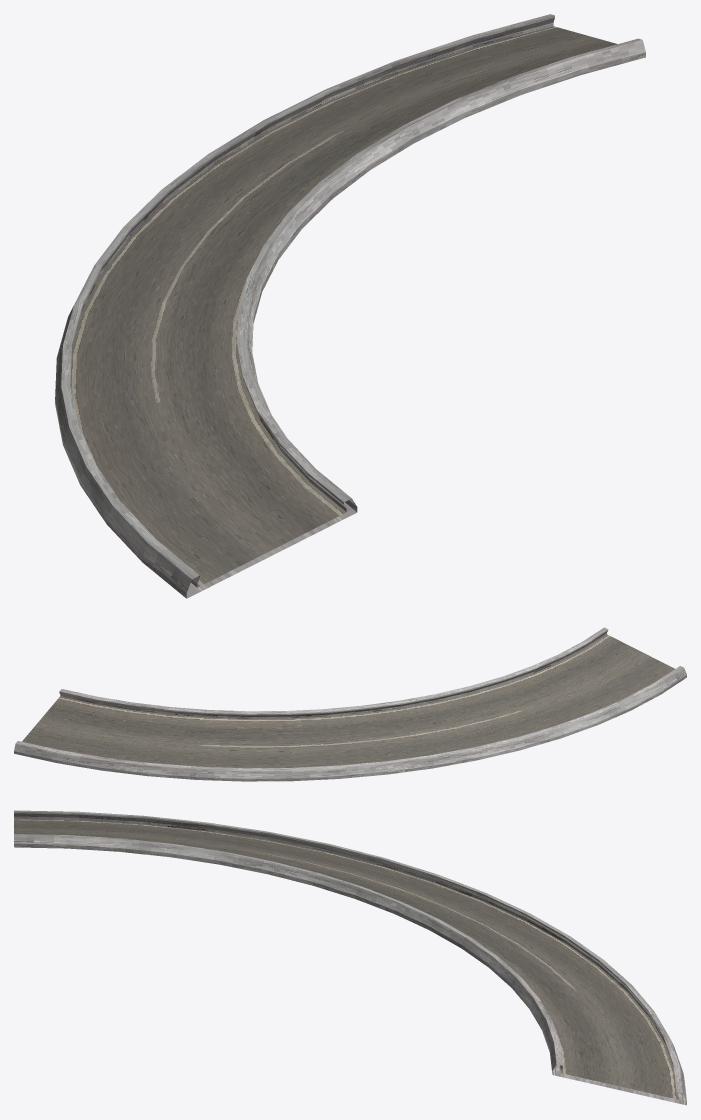
File: road-Turn-HalfBankedLeft-HalfBankedLeft-Even-Right-Size5.glb
3 views of the same model, one above another, from view 1: azimuth 30°, elevation 25°; view 2: azimuth 150°, elevation 25°; view 3: azimuth 270°, elevation 25° (orthographic). The views are drawn at different scales.
Parts seen in each view (by area): view 1: road-Turn-HalfBankedLeft-HalfBankedLeft-Even-Right-Size5; view 2: road-Turn-HalfBankedLeft-HalfBankedLeft-Even-Right-Size5; view 3: road-Turn-HalfBankedLeft-HalfBankedLeft-Even-Right-Size5.
Boxes of the visible parts, x1,y1,x2,y2 form: road-Turn-HalfBankedLeft-HalfBankedLeft-Even-Right-Size5: [55, 14, 645, 598]; road-Turn-HalfBankedLeft-HalfBankedLeft-Even-Right-Size5: [14, 627, 686, 781]; road-Turn-HalfBankedLeft-HalfBankedLeft-Even-Right-Size5: [14, 810, 686, 1105].
Bounding box in the file's own units: 5 × 0.3359 × 5.
Materials: 2 (2 with a texture image).
